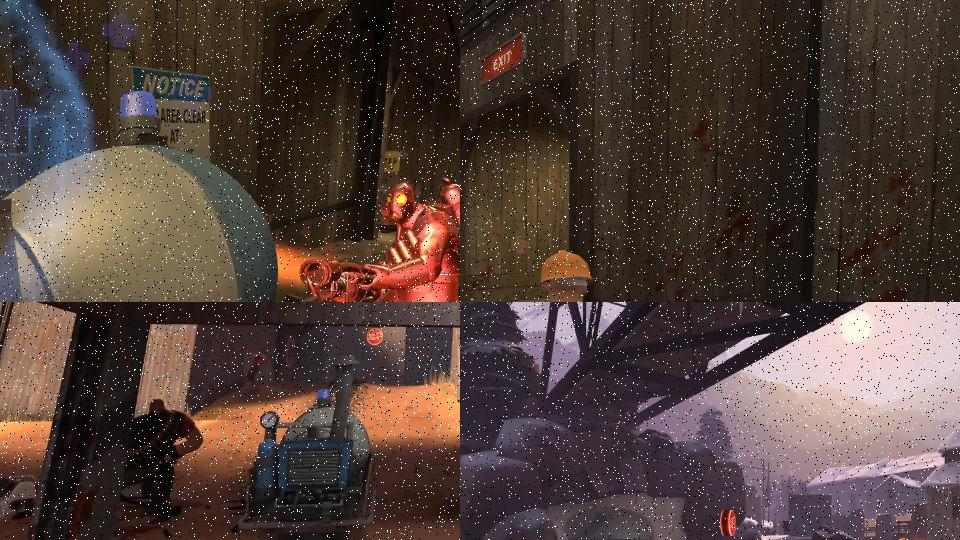Enemy: (298, 176, 460, 302), (120, 398, 204, 524), (0, 473, 37, 520), (244, 344, 267, 387)
